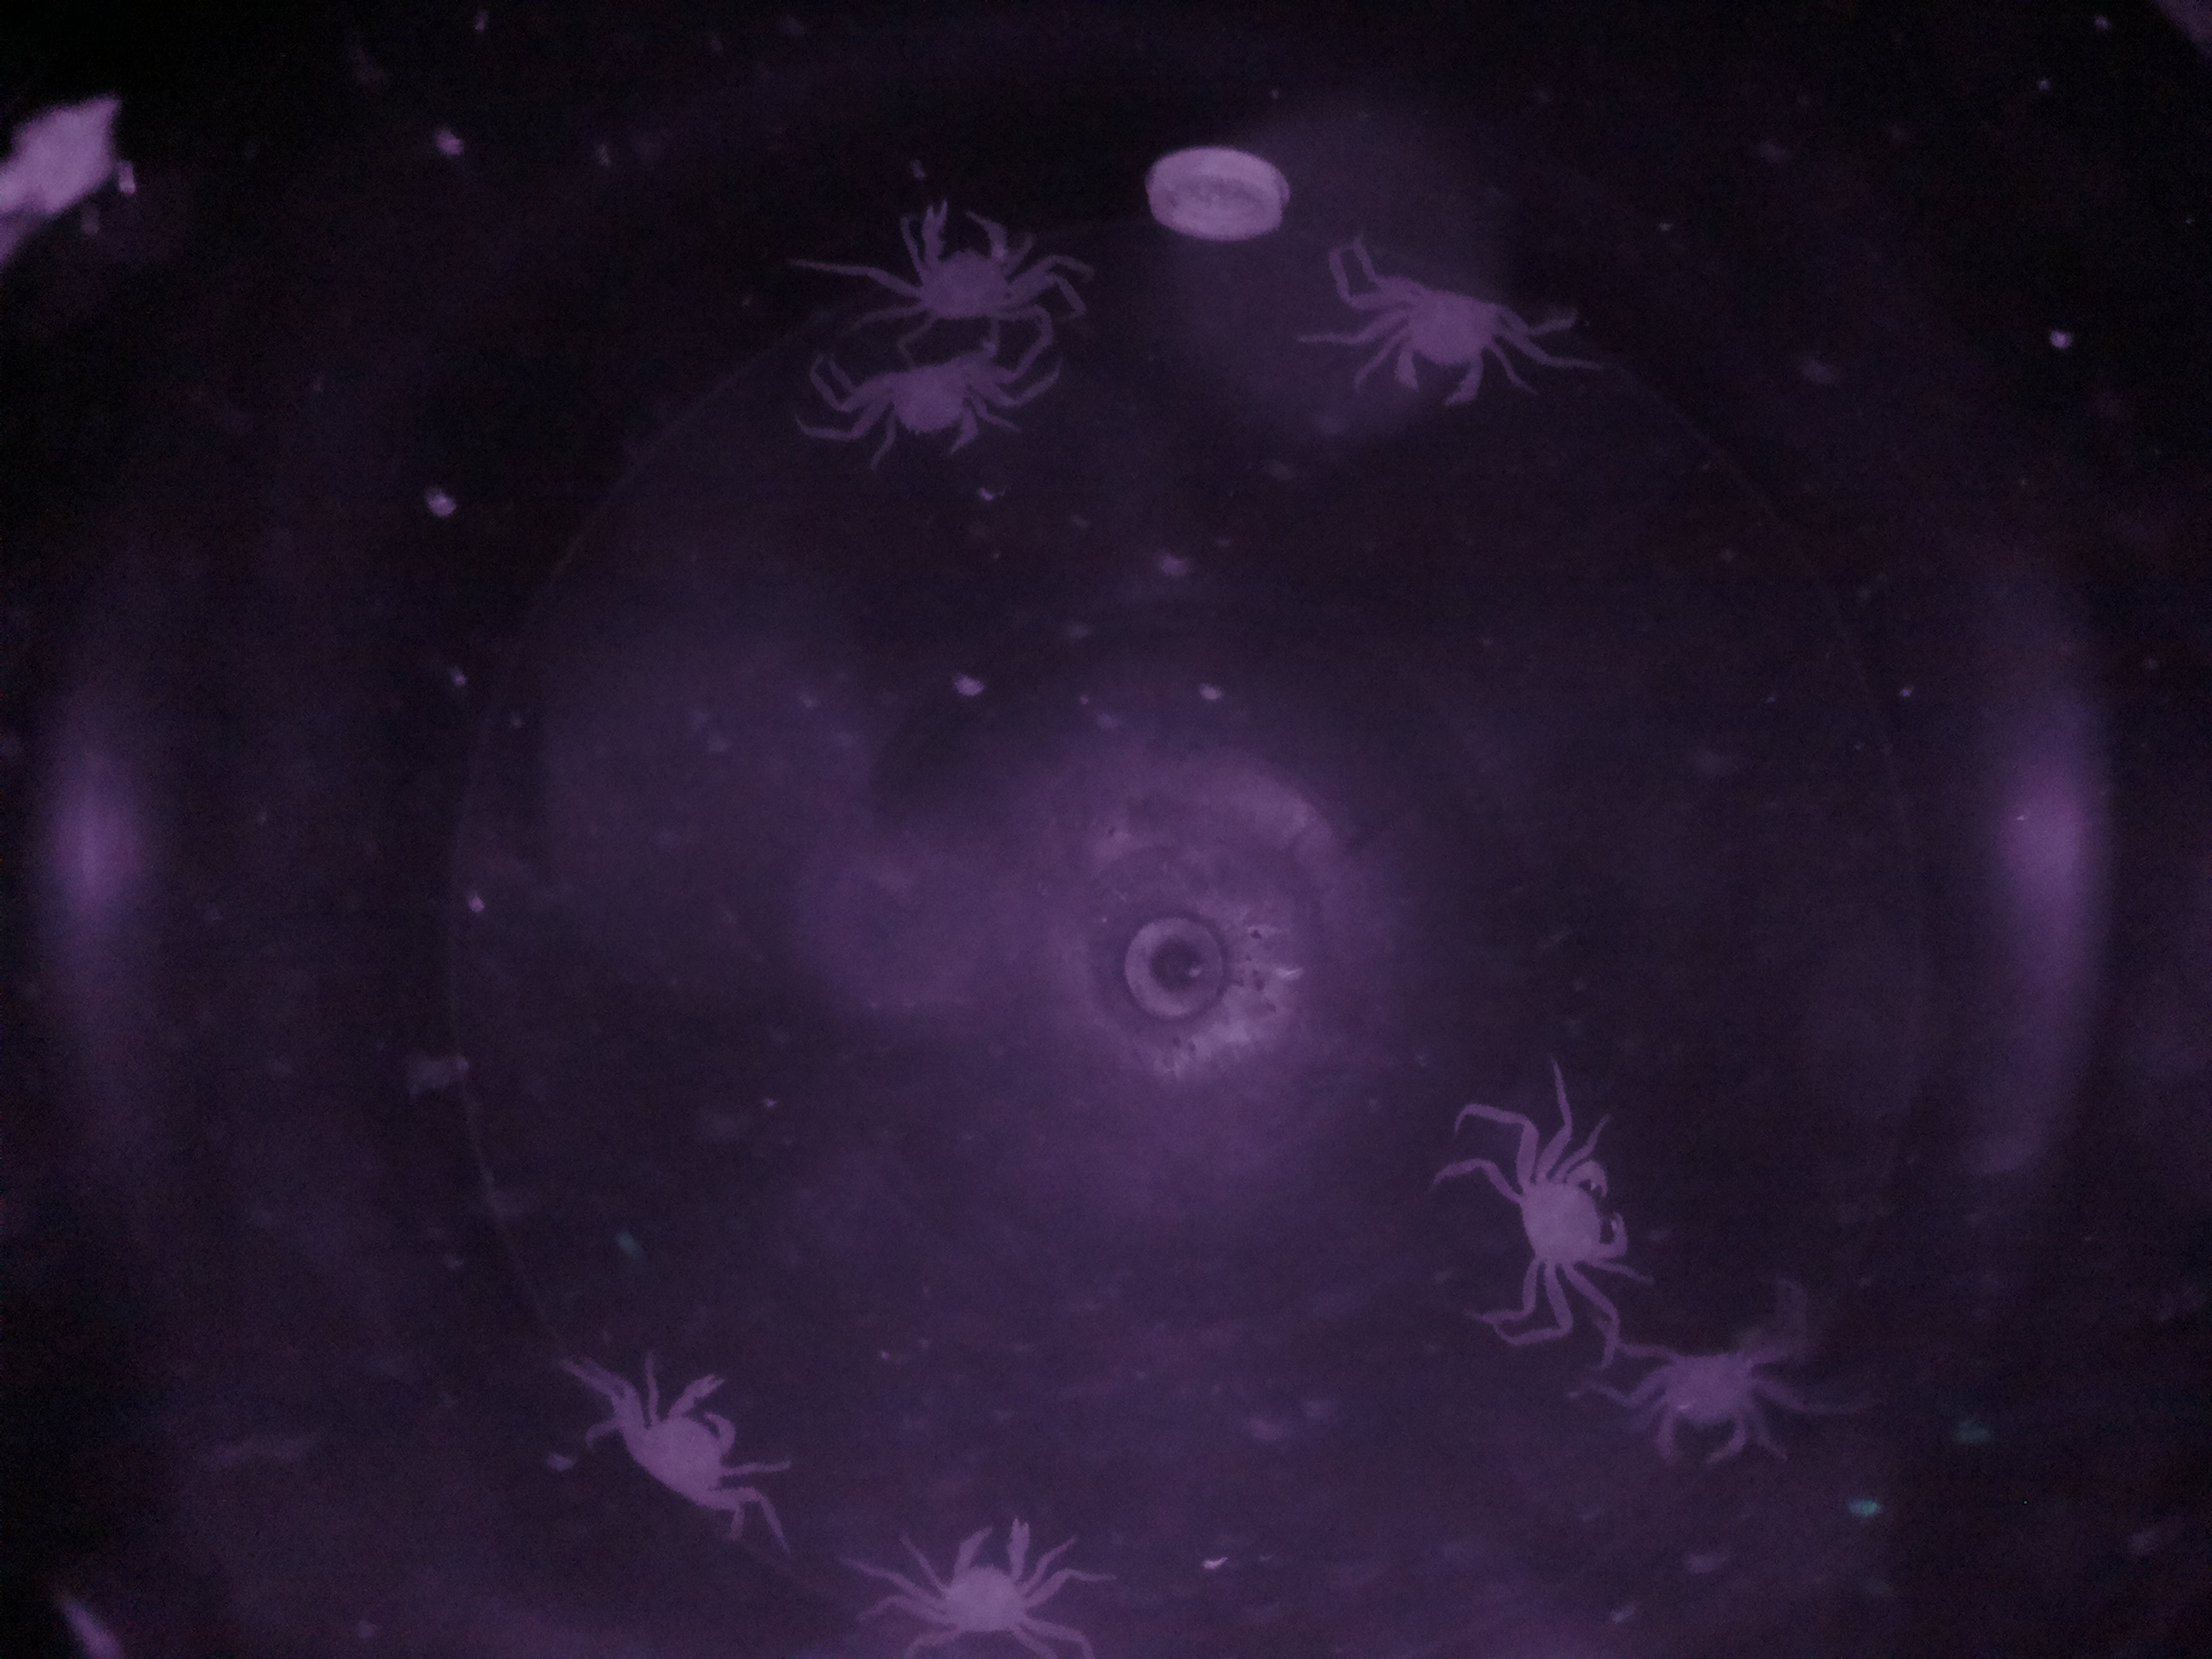Crab: (599, 1337, 766, 1542), (1355, 244, 1538, 415), (1496, 1117, 1644, 1328), (1623, 1305, 1787, 1486), (869, 174, 1035, 335), (833, 338, 1021, 472), (914, 1507, 1080, 1652)
